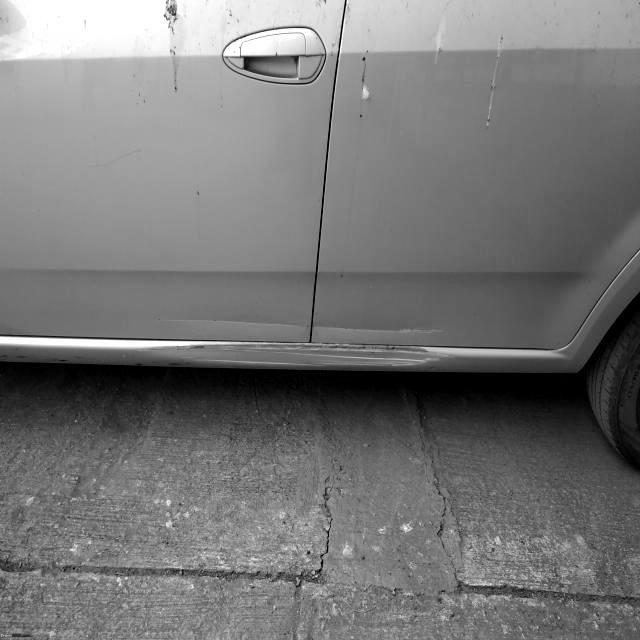Runningboard-Damage: (141, 317, 437, 380)
doorouter-dent: (2, 3, 314, 339), (313, 0, 584, 348)
